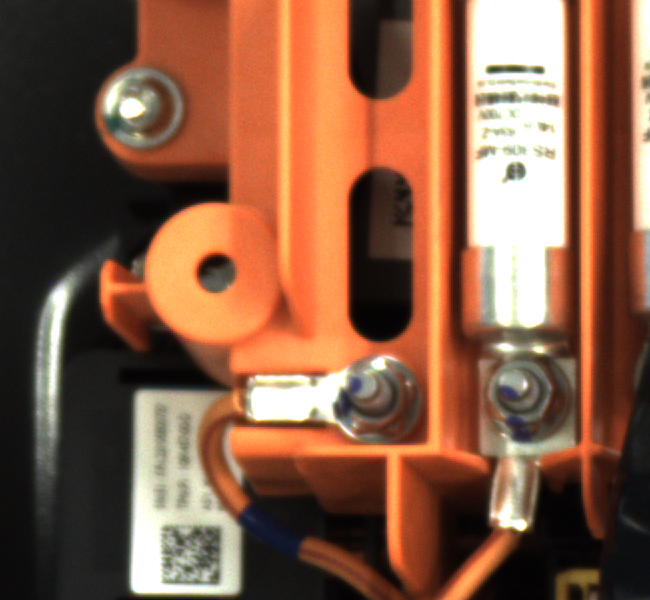screw_m: (99, 69, 198, 149)
screw_s: (482, 346, 569, 453), (315, 349, 415, 436)
